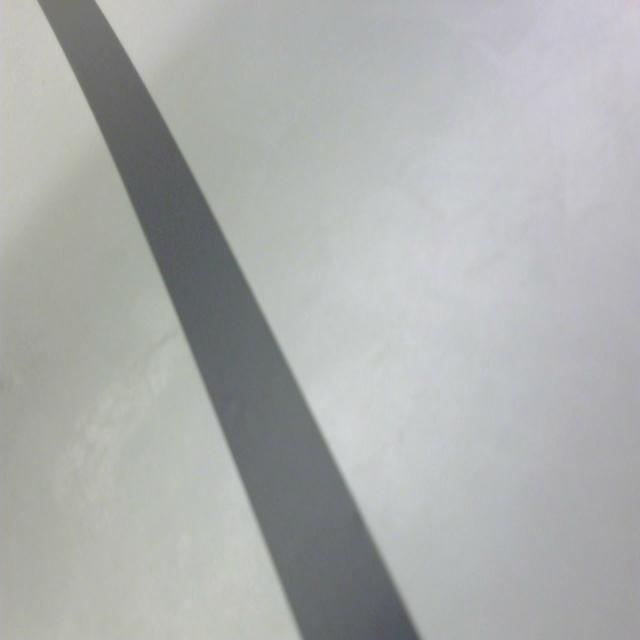tape: (32, 0, 424, 640)
